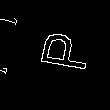P_W: (22, 32, 88, 78)
